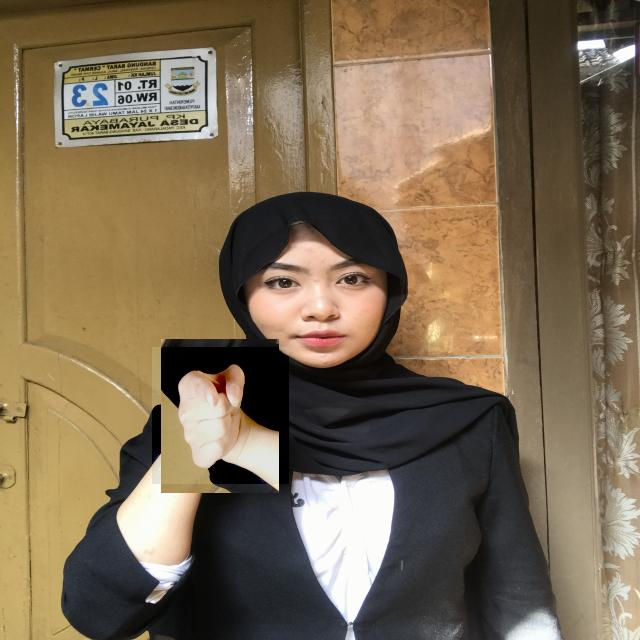kamu: (152, 347, 289, 484)
